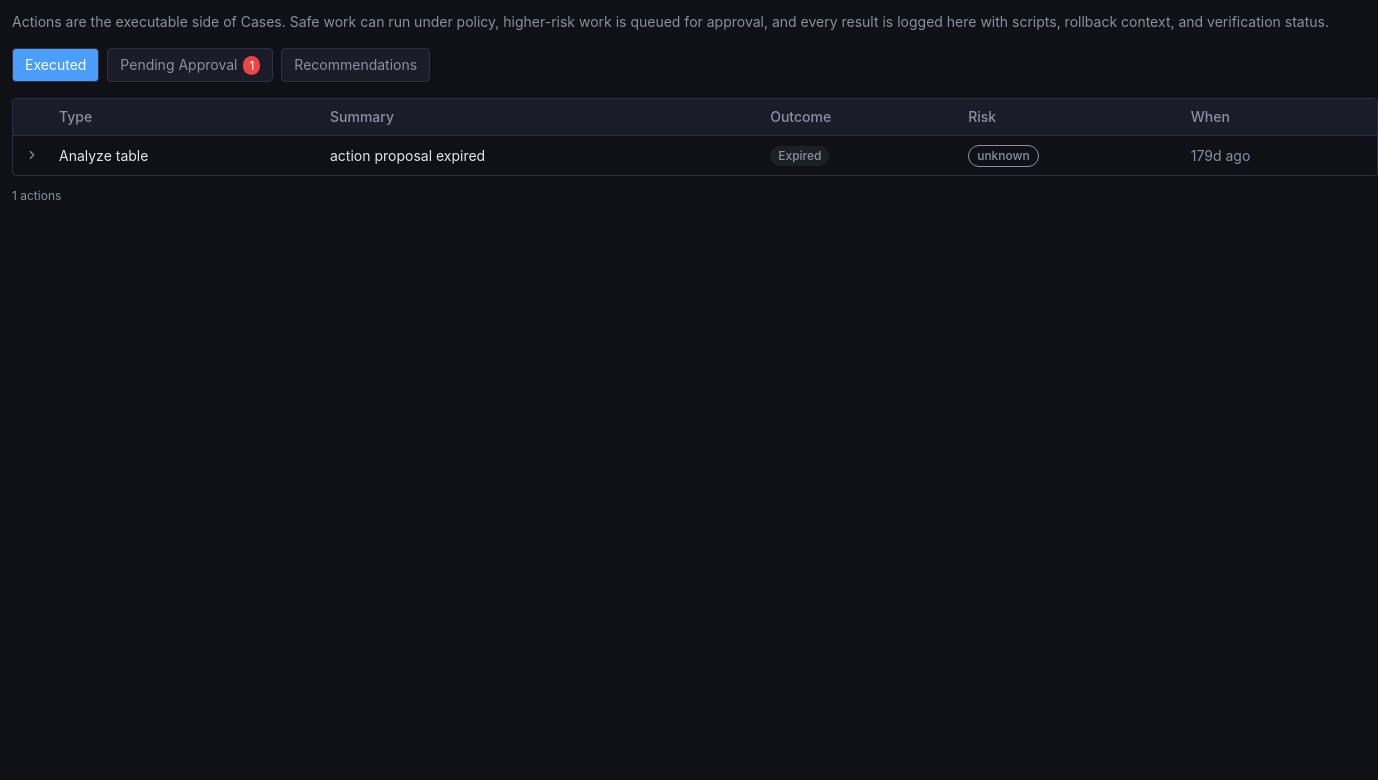
Test case: Actions › shows generated migration script output for pending DDL
Click the button with test id "actions-tab-pending": point(190, 65) [107,48,273,82]
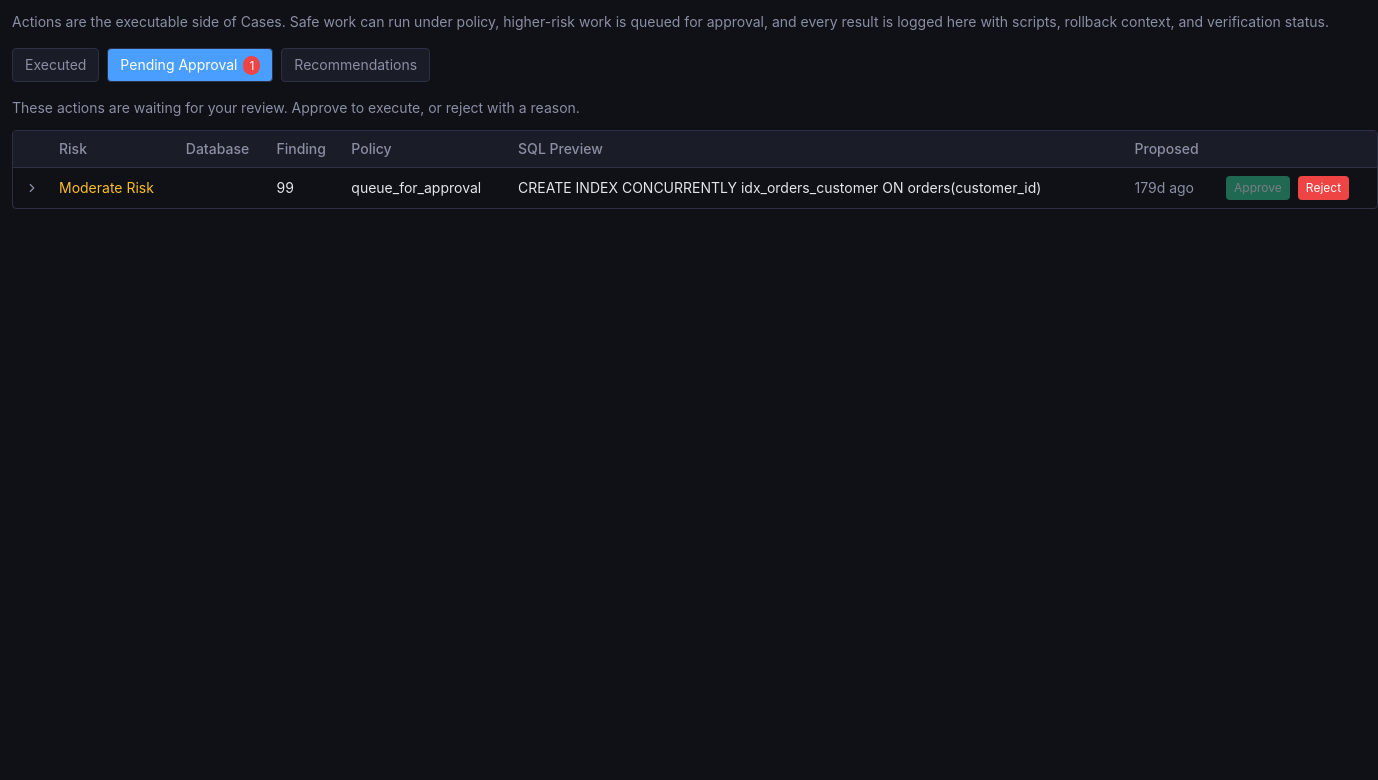
Click the button named "Expand row": point(32, 188) [21,176,43,198]
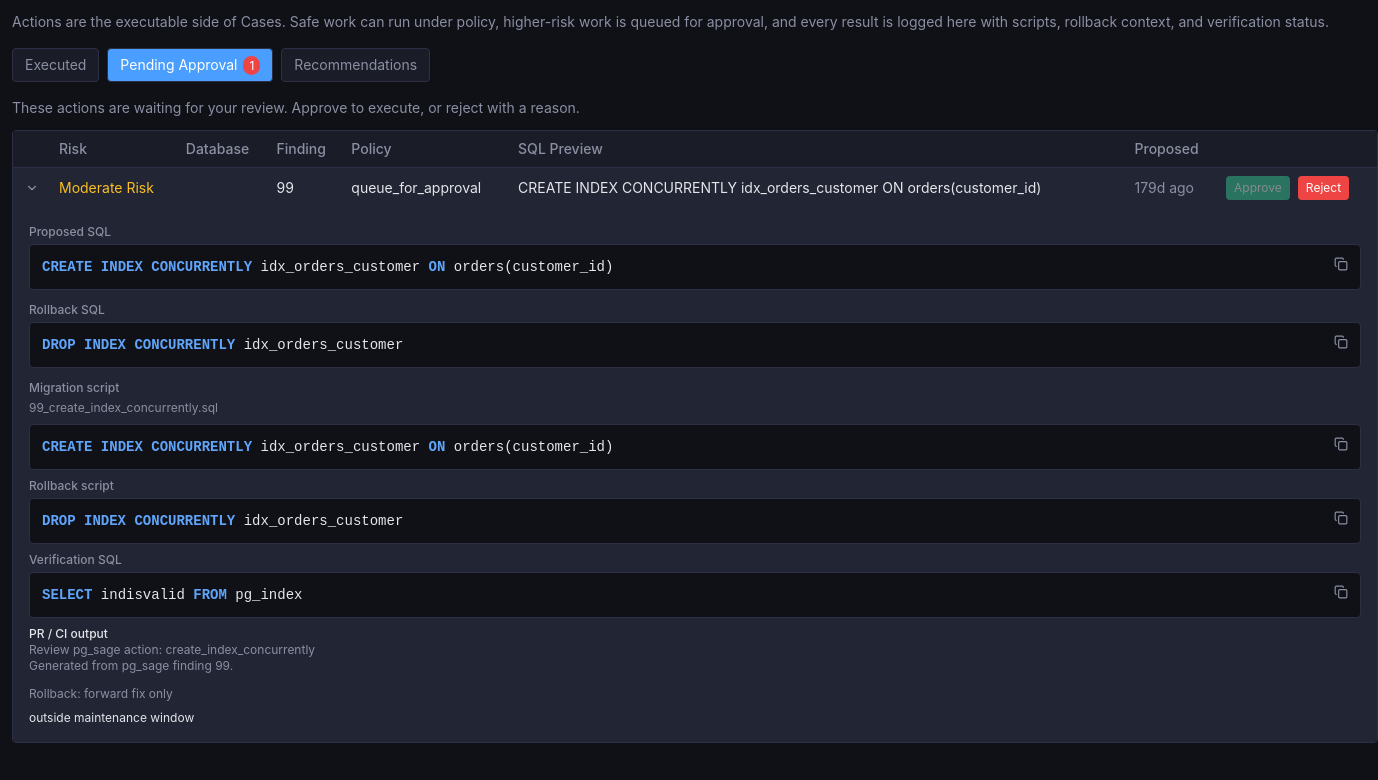
Result: the text "CREATE INDEX CONCURRENTLY" is shown at [518,179,1041,196]
Result: the text "Migration script" is shown at [29,380,119,395]
Result: the text "99_create_index_concurrently.sql" is shown at [29,400,218,415]
